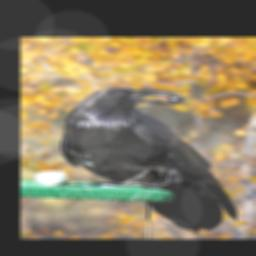Crow: (58, 88, 237, 233)
